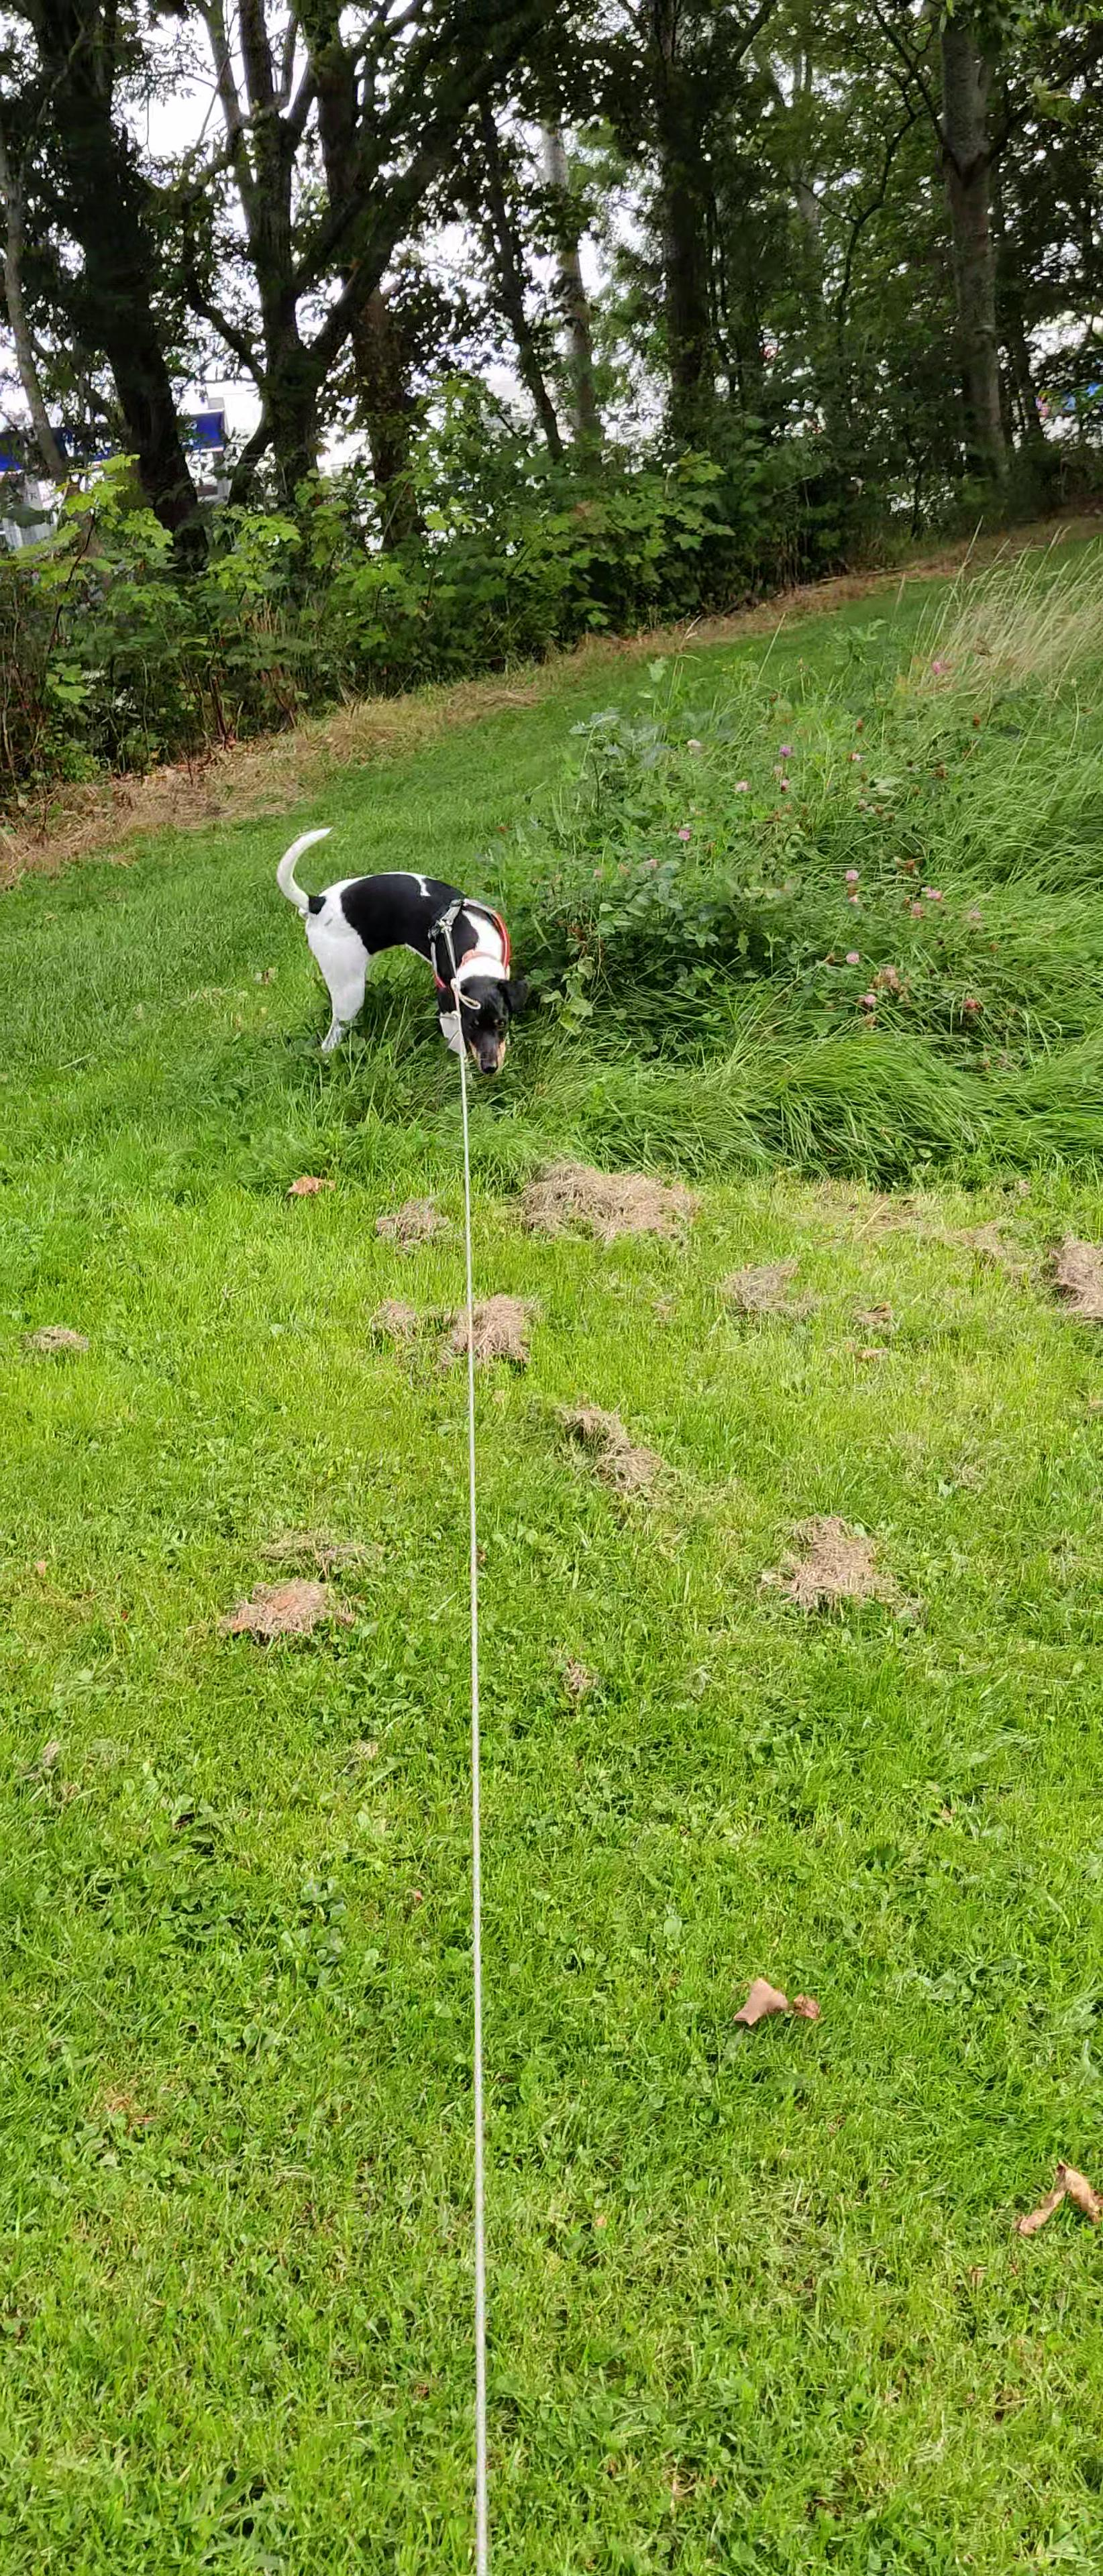Dog: (271, 823, 534, 1078)
